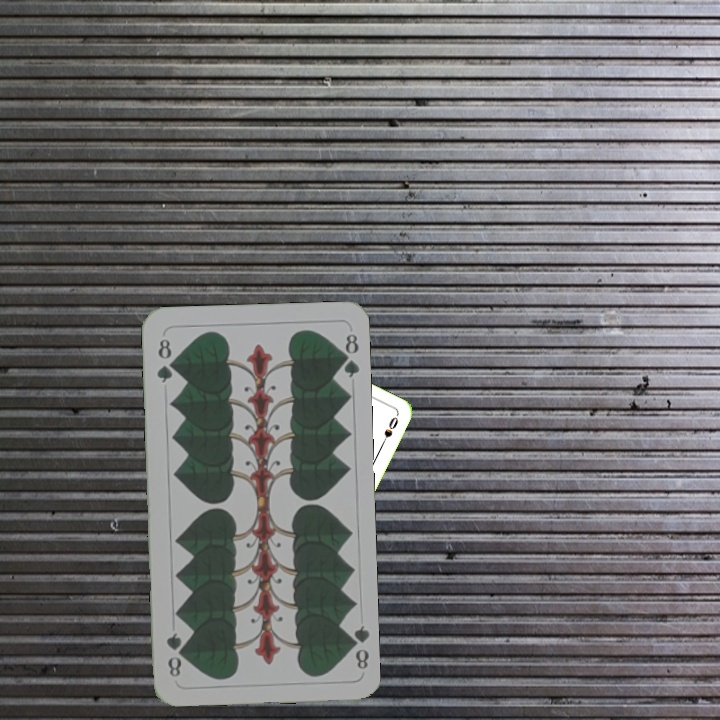G8: (344, 621, 371, 672), (152, 334, 176, 386)
